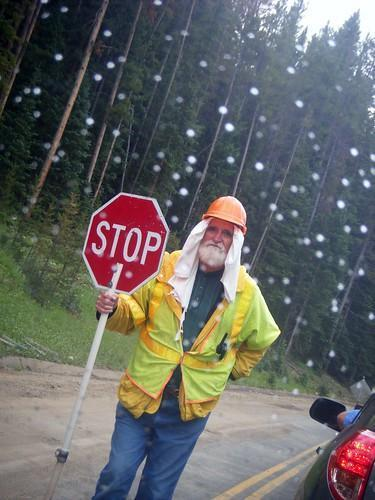vest: (104, 245, 279, 417)
